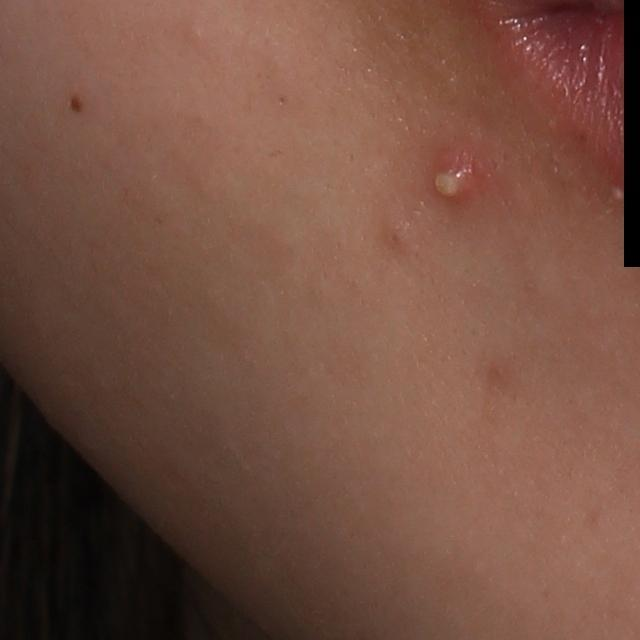comedo: (178, 25, 209, 46)
nevus: (68, 91, 87, 114)
pustule: (423, 144, 481, 209), (607, 182, 630, 204)
